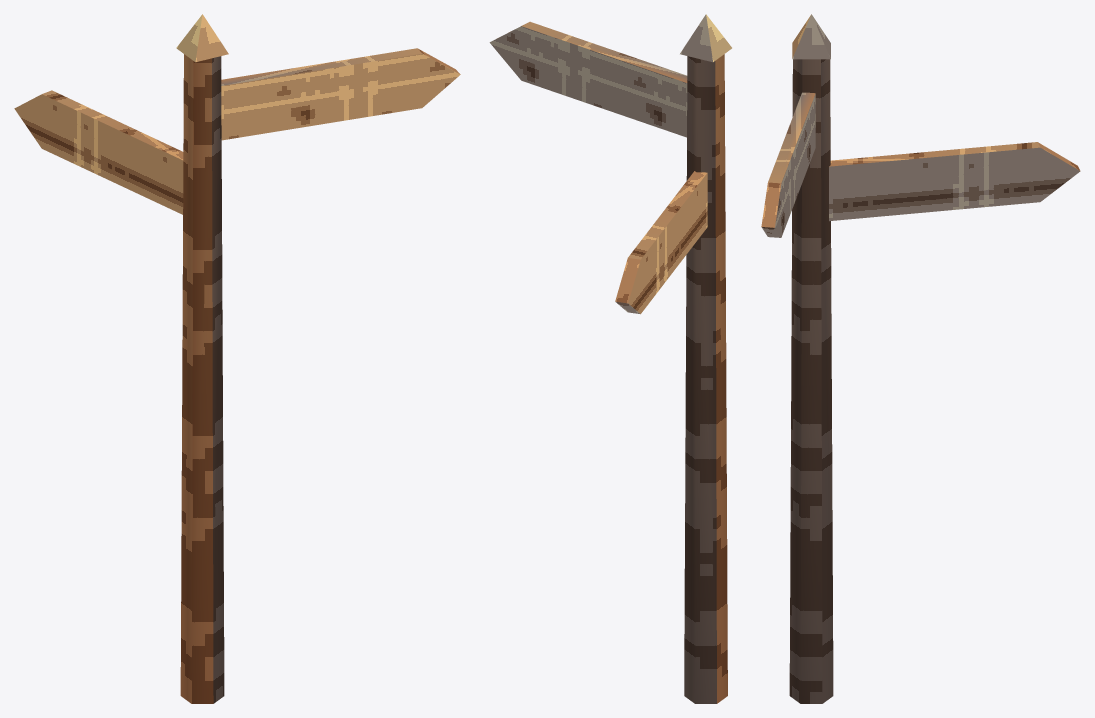
Rendered from wprop.signpost__two.glb.
3 renders of one model, left to right at view 1: azimuth 30°, elevation 25°; view 2: azimuth 150°, elevation 25°; view 3: azimuth 270°, elevation 25°, orthographic.
Parts seen in each view (by area): view 1: kit_post, kit_boards, kit_cap; view 2: kit_post, kit_boards, kit_cap; view 3: kit_post, kit_boards, kit_cap.
Boxes of the visible parts, <box> form: kit_post: <box>180,54,224,703</box>; kit_boards: <box>14,48,460,214</box>; kit_cap: <box>176,14,228,62</box>; kit_post: <box>684,54,727,703</box>; kit_boards: <box>489,21,707,314</box>; kit_cap: <box>680,14,731,62</box>; kit_post: <box>789,59,833,703</box>; kit_boards: <box>761,92,1080,237</box>; kit_cap: <box>792,14,830,59</box>.
Bounding box in the file's own units: 1.22 × 2.75 × 1.17.
3 materials, 3 textured.
